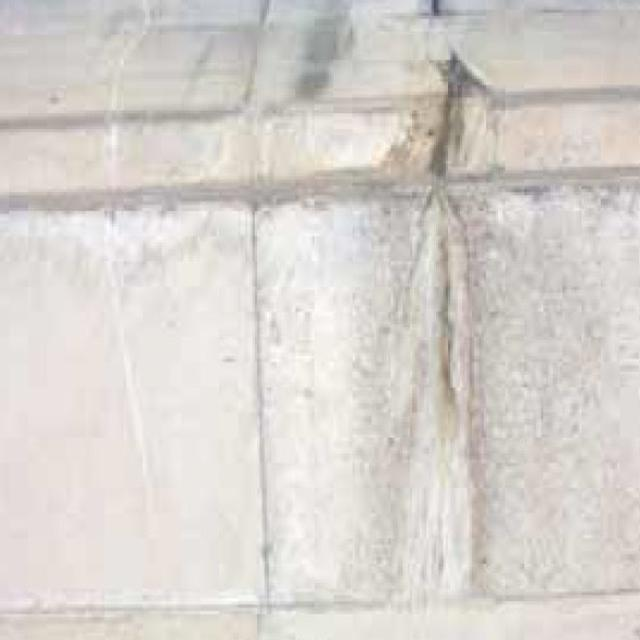freelime: (387, 200, 474, 609)
